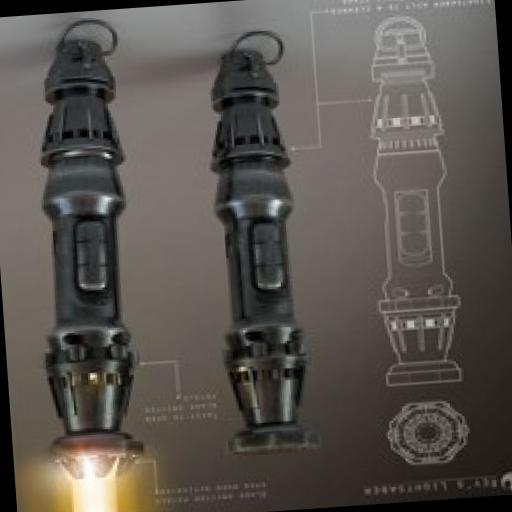lightsaber: (13, 32, 160, 512), (202, 42, 317, 464)
